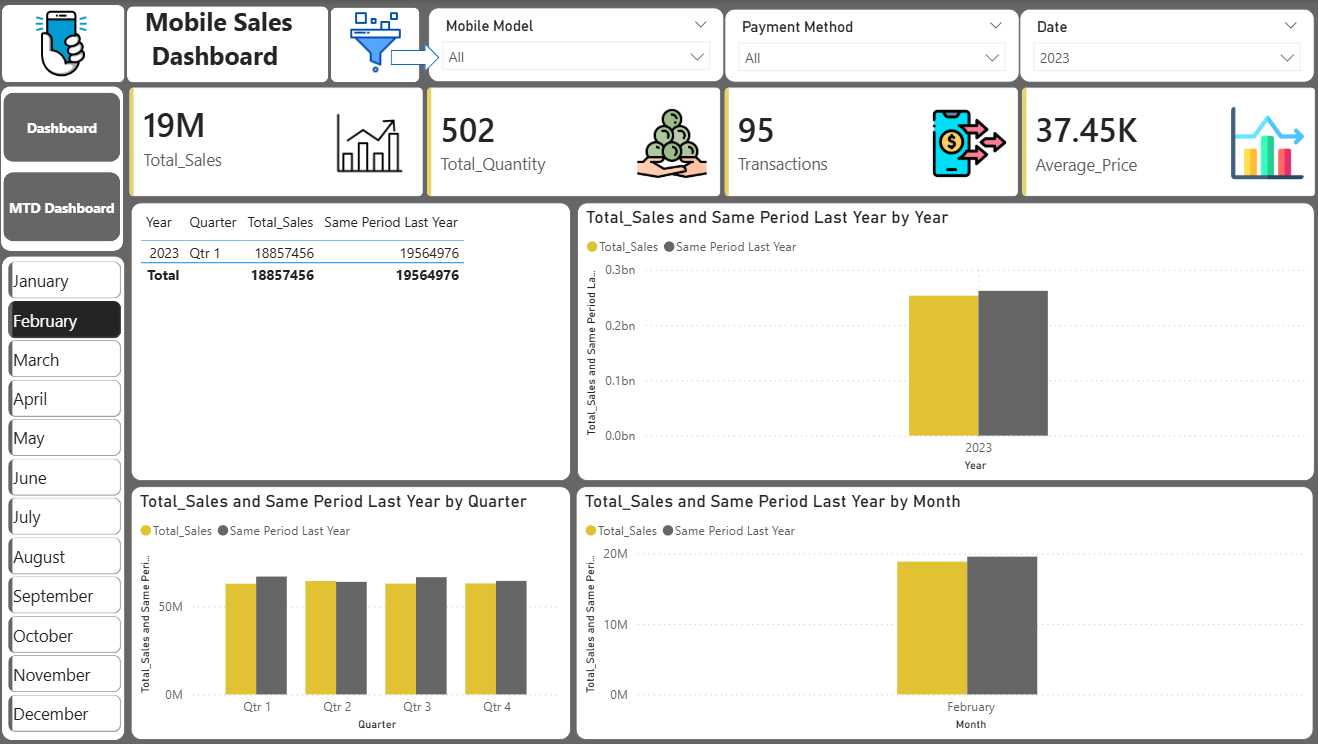

This screenshot's page, from the dashboard's own definition file:
{"tool":"powerbi","page":{"name":"Same Period Last Year","canvas":[1280,720],"ordinal":2},"visuals":[{"type":"shape","box":[4.8,4.8,118.2,74.8],"z":0},{"type":"shape","box":[4,83,118.2,159],"z":1000},{"type":"shape","box":[4.8,247,118.2,467],"z":2000},{"type":"shape","box":[125.5,6,194.2,73.6],"z":3000},{"type":"shape","box":[322.1,7.2,85.7,72.4],"z":4000},{"type":"advancedSlicerVisual","fields":{"Values":["Custom_Calendar.Date.Variation.Date Hierarchy.Month"]},"box":[8.4,252.1,113.4,462.1],"z":5000},{"type":"cardVisual","fields":{"Data":["Mobile_Data_Sales.Total_Sales","Mobile_Data_Sales.Total_Quantity","Mobile_Data_Sales.Transactions","Mobile_Data_Sales.Average_Price"]},"box":[123.1,79.6,1157,115.8],"z":6000},{"type":"textbox","box":[137.5,0,182.2,79.6],"z":7000},{"type":"slicer","fields":{"Values":["Mobile_Data_Sales.Mobile Model"]},"box":[416.2,7.2,285.9,72.4],"z":8000},{"type":"slicer","fields":{"Values":["Mobile_Data_Sales.Payment Method"]},"box":[702.1,8.4,284.7,71.2],"z":9000},{"type":"slicer","fields":{"Values":["Custom_Calendar.Date.Variation.Date Hierarchy.Year","Custom_Calendar.Date.Variation.Date Hierarchy.Quarter","Custom_Calendar.Date.Variation.Date Hierarchy.Month","Custom_Calendar.Date.Variation.Date Hierarchy.Day"]},"box":[986.9,8.4,284.7,71.2],"z":10000},{"type":"shape","box":[380,41,47.1,29],"z":11000},{"type":"image","box":[328.2,10.9,74.8,60.3],"z":12000},{"type":"tableEx","fields":{"Values":["Custom_Calendar.Date.Variation.Date Hierarchy.Year","Custom_Calendar.Date.Variation.Date Hierarchy.Quarter","Mobile_Data_Sales.Total_Sales","Mobile_Data_Sales.Same Period Last Year"]},"box":[129,195.4,424.7,269],"z":13000},{"type":"clusteredColumnChart","fields":{"Category":["Custom_Calendar.Date.Variation.Date Hierarchy.Year","Custom_Calendar.Date.Variation.Date Hierarchy.Quarter"],"Y":["Mobile_Data_Sales.Total_Sales","Mobile_Data_Sales.Same Period Last Year"]},"box":[559.8,195.4,711.8,269],"z":14000},{"type":"clusteredColumnChart","fields":{"Y":["Mobile_Data_Sales.Total_Sales","Mobile_Data_Sales.Same Period Last Year"],"Category":["Custom_Calendar.Date.Variation.Date Hierarchy.Year","Custom_Calendar.Date.Variation.Date Hierarchy.Quarter","Custom_Calendar.Date.Variation.Date Hierarchy.Month","Custom_Calendar.Date.Variation.Date Hierarchy.Day"]},"box":[129.1,469.3,424.7,244.9],"z":15000},{"type":"clusteredColumnChart","fields":{"Y":["Mobile_Data_Sales.Total_Sales","Mobile_Data_Sales.Same Period Last Year"],"Category":["Custom_Calendar.Date.Variation.Date Hierarchy.Month","Custom_Calendar.Date.Variation.Date Hierarchy.Day"]},"box":[558.6,469.3,711.8,244.9],"z":16000},{"type":"pageNavigator","box":[6,89.3,113.4,144.8],"z":17000},{"type":"image","box":[18.1,0,88.1,83.2],"z":18000}]}

Visuals, with their boxes in screenshot pixels (x1, y1, x2, y2), scaled from the page's 1280x720 canvas onto the 1318x744 screenshot:
shape: locate(5, 5, 127, 82)
shape: locate(4, 86, 126, 250)
shape: locate(5, 255, 127, 738)
shape: locate(129, 6, 329, 82)
shape: locate(332, 7, 420, 82)
advancedSlicerVisual - Custom_Calendar.Date.Variation.Date Hierarchy.Month: locate(9, 261, 125, 738)
cardVisual - Mobile_Data_Sales.Total_Sales x Mobile_Data_Sales.Total_Quantity: locate(127, 82, 1317, 202)
textbox: locate(142, 0, 329, 82)
slicer - Mobile_Data_Sales.Mobile Model: locate(429, 7, 723, 82)
slicer - Mobile_Data_Sales.Payment Method: locate(723, 9, 1016, 82)
slicer - Custom_Calendar.Date.Variation.Date Hierarchy.Year x Custom_Calendar.Date.Variation.Date Hierarchy.Quarter: locate(1016, 9, 1309, 82)
shape: locate(391, 42, 440, 72)
image: locate(338, 11, 415, 74)
tableEx - Custom_Calendar.Date.Variation.Date Hierarchy.Year x Custom_Calendar.Date.Variation.Date Hierarchy.Quarter: locate(133, 202, 570, 480)
clusteredColumnChart - Custom_Calendar.Date.Variation.Date Hierarchy.Year x Custom_Calendar.Date.Variation.Date Hierarchy.Quarter: locate(576, 202, 1309, 480)
clusteredColumnChart - Mobile_Data_Sales.Total_Sales x Mobile_Data_Sales.Same Period Last Year: locate(133, 485, 570, 738)
clusteredColumnChart - Mobile_Data_Sales.Total_Sales x Mobile_Data_Sales.Same Period Last Year: locate(575, 485, 1308, 738)
pageNavigator: locate(6, 92, 123, 242)
image: locate(19, 0, 109, 86)
